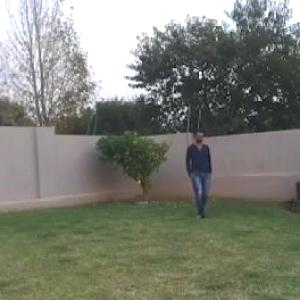follow: (185, 127, 216, 224)
